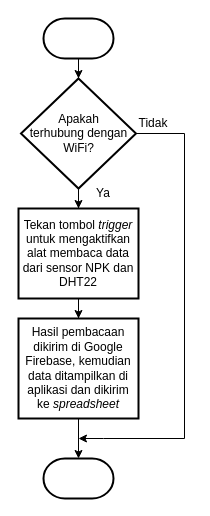
Some shapes in this 210 by 516 pixel diagram are drawn without their labels. The box of each missing label's shape, as (x1, y1, x2, y2) in pixels:
Mulai: (42, 17, 114, 59)
Selesai: (42, 457, 114, 499)
